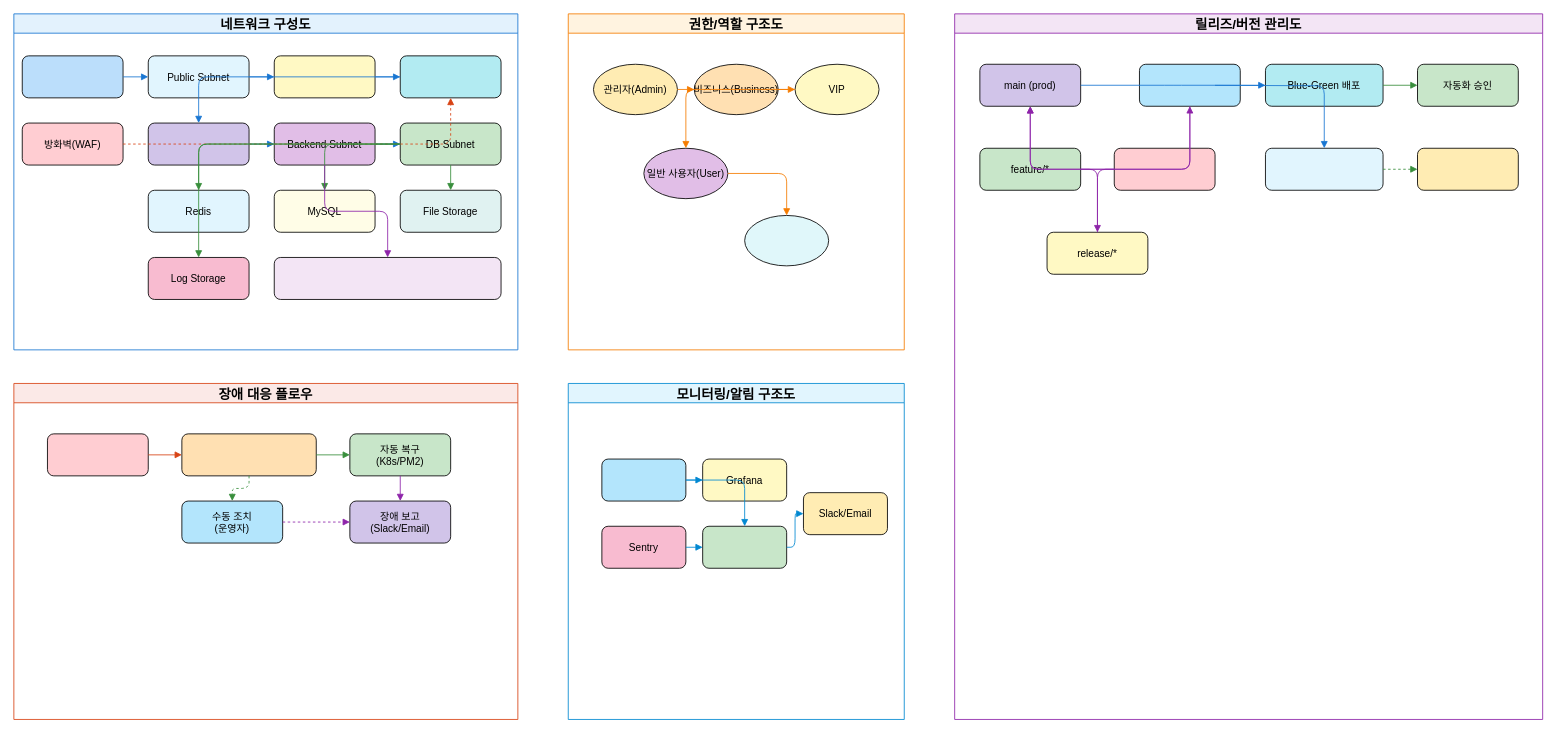
Some shapes in this 1557 by 733 pixel diagram are drawn without their labels. Each missing label, with the centre of its shape:
AlertManager: the point at 744,546
Canary 배포: the point at 1324,168
dev (staging): the point at 1189,84
hotfix/*: the point at 1164,168
K8s Ingress: the point at 198,143
Load Balancer: the point at 324,76
Nginx (Reverse Proxy): the point at 450,76
Prometheus: the point at 643,479
VPC: the point at 72,76
게스트(Guest): the point at 786,240
수동 승인: the point at 1467,168
알림 전송 (Slack/Email/WebSocket): the point at 248,454
외부 API (네이버, 결제, 이메일, SMS): the point at 387,278
장애 감지 (Prometheus/Sentry): the point at 97,454
